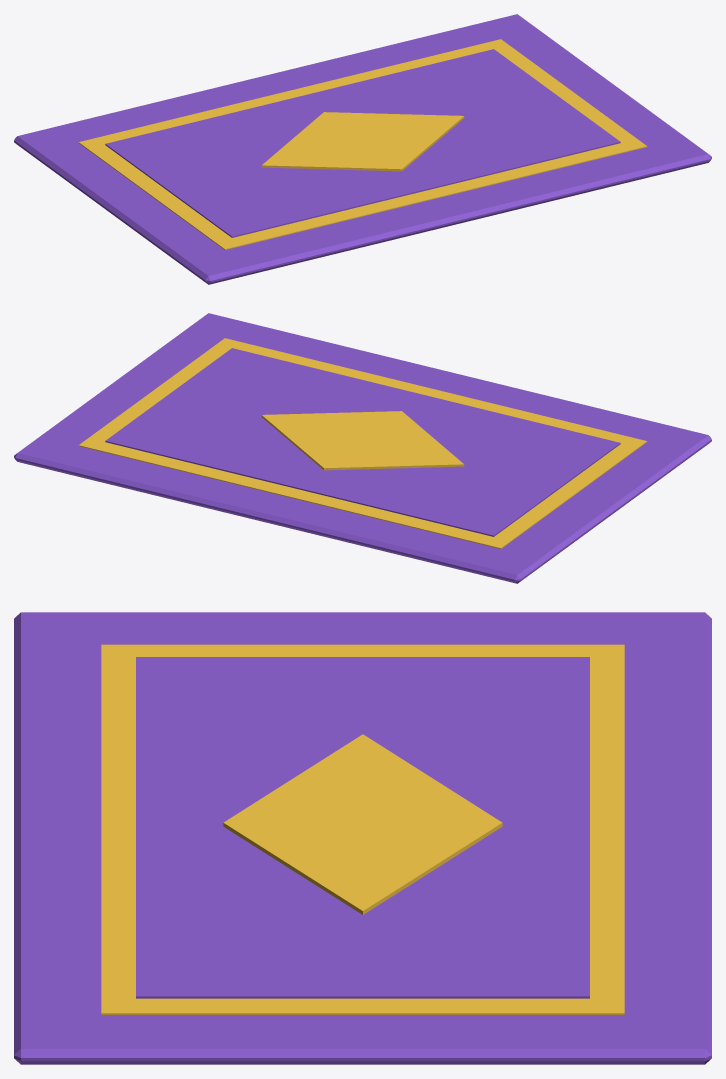
File: PurpleRug.fbx
3 views of the same model, one above another, from view 1: azimuth 30°, elevation 25°; view 2: azimuth 150°, elevation 25°; view 3: azimuth 270°, elevation 25° (orthographic). The views are drawn at different scales.
Parts seen in each view (by area): view 1: PurpleRug; view 2: PurpleRug; view 3: PurpleRug.
Boxes of the visible parts, x1,y1,x2,y2 form: PurpleRug: (14,14,711,284); PurpleRug: (14,313,711,583); PurpleRug: (14,612,711,1064).
Size of the model in its own units: 6 by 0.15 by 4.
1 material, 1 textured.
